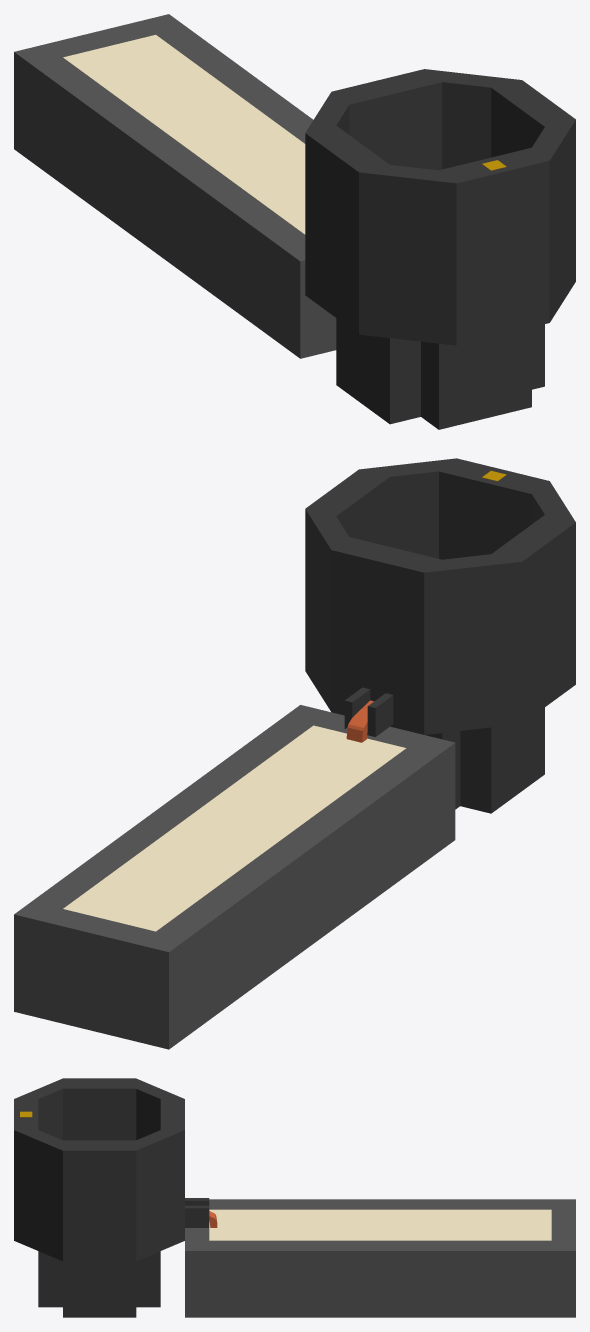
Rendered from casting_machine.obj.
3 views of the same model, one above another, from view 1: azimuth 30°, elevation 25°; view 2: azimuth 150°, elevation 25°; view 3: azimuth 270°, elevation 25° (orthographic). The views are drawn at different scales.
Parts seen in each view (by area): view 1: group_0.002_ID17, group_2_ID51, group_0_ID3, group_1_ID42; view 2: group_2_ID51, group_0.002_ID17, group_1_ID42, group_0_ID3, group_0.001_ID11; view 3: group_2_ID51, group_0.002_ID17, group_0_ID3, group_1_ID42, group_0.001_ID11.
Boxes of the visible parts, x1,y1,x2,y2 form: group_0.002_ID17: (305,69,575,345); group_2_ID51: (14,14,336,358); group_0_ID3: (336,82,544,429); group_1_ID42: (63,34,305,234); group_2_ID51: (14,705,455,1049); group_0.002_ID17: (305,458,575,734); group_1_ID42: (63,725,406,931); group_0_ID3: (336,471,544,813); group_0.001_ID11: (344,687,393,736); group_2_ID51: (185,1199,575,1317); group_0.002_ID17: (14,1078,184,1261); group_0_ID3: (38,1088,160,1317); group_1_ID42: (209,1209,551,1240); group_0.001_ID11: (185,1198,209,1227).
Bounding box in the file's own units: 7 × 8.01 × 23.
